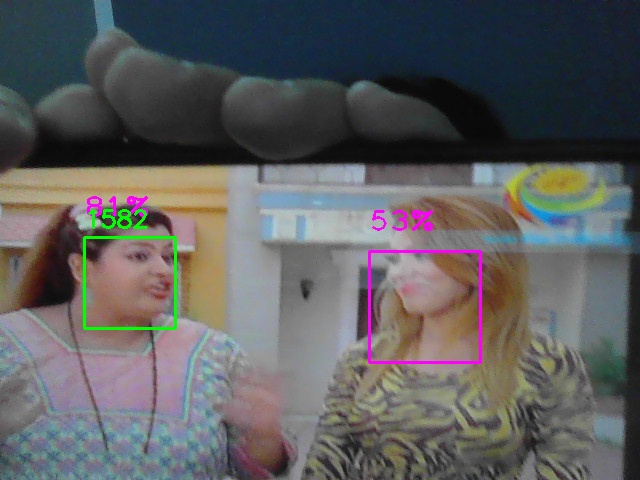fake: (84, 237, 176, 329)
